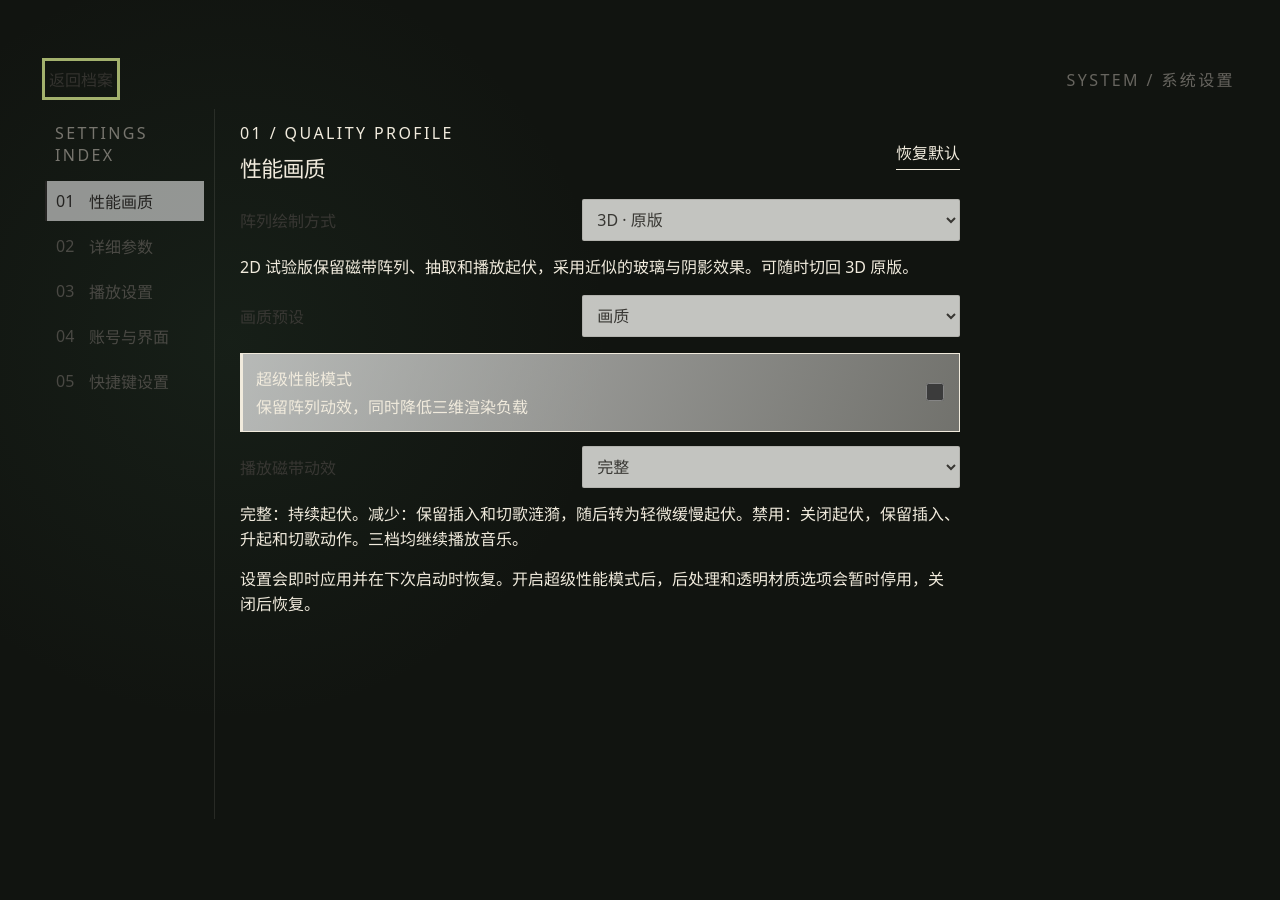
Test: 保存失败保留原偏好，可重试，并恢复启动时读取的已保存音质
Click the button "03 播放设置".
click(124, 291)  # box [45,271,204,311]
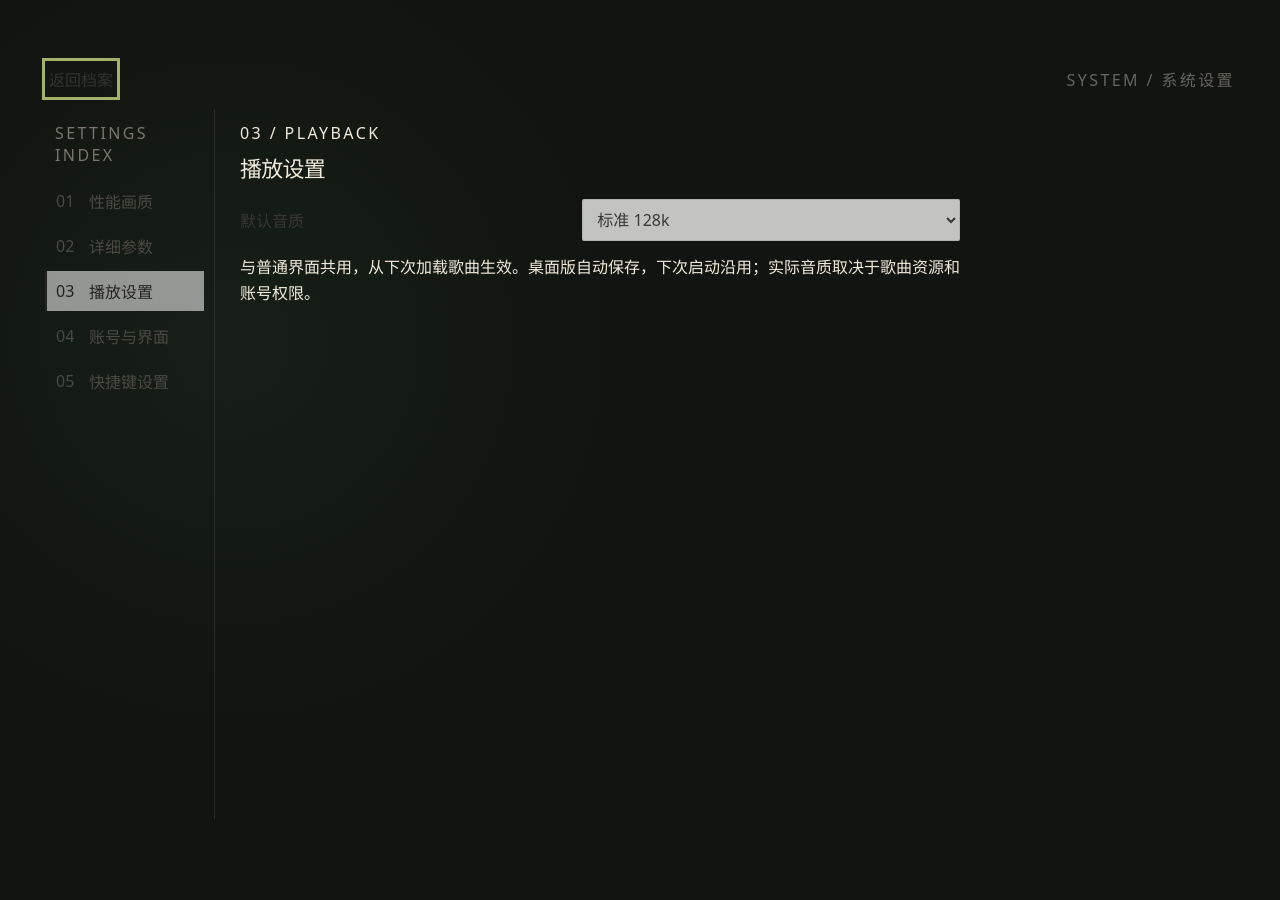
Now the dropdown labelled "默认音质" shows "标准 128k"
Select "无损优先" in the dropdown labelled "默认音质" at (771, 220), box [582,199,960,241]
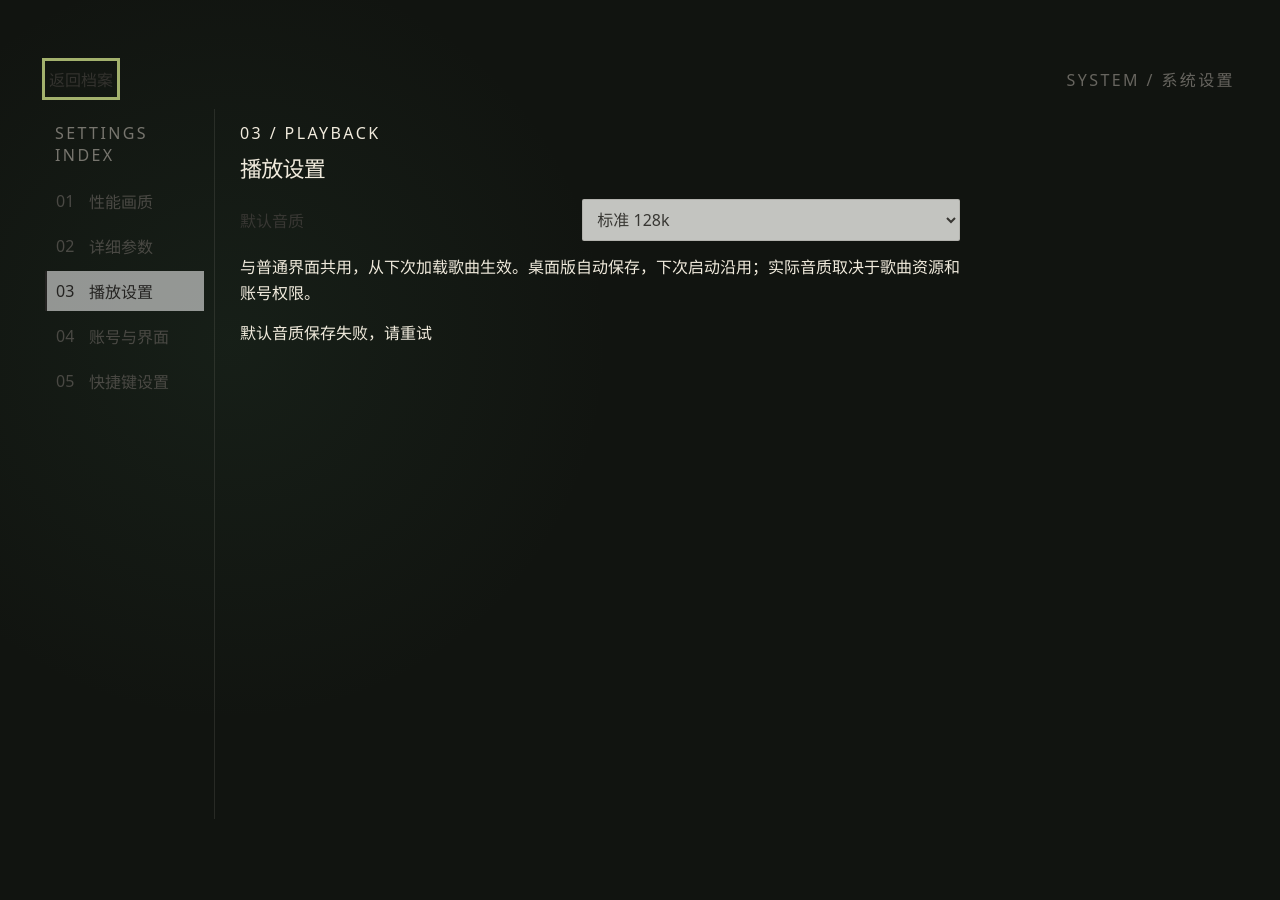
Now the dropdown labelled "默认音质" is enabled
Now the message reads "默认音质保存失败，请重试", box [240,322,432,344]
Select "无损优先" in the dropdown labelled "默认音质" at (771, 220), box [582,199,960,241]
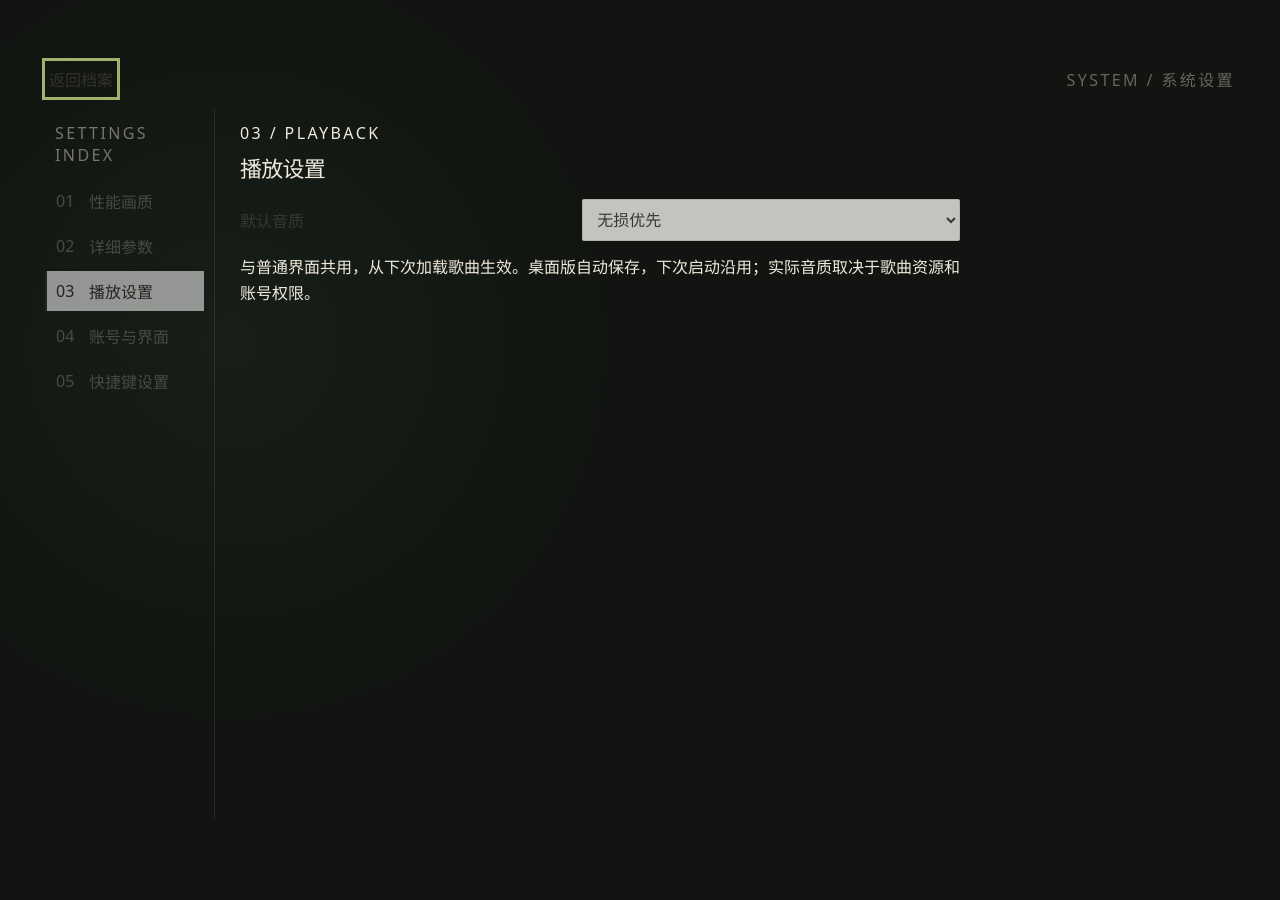
Now the message "默认音质保存失败，请重试" is gone
